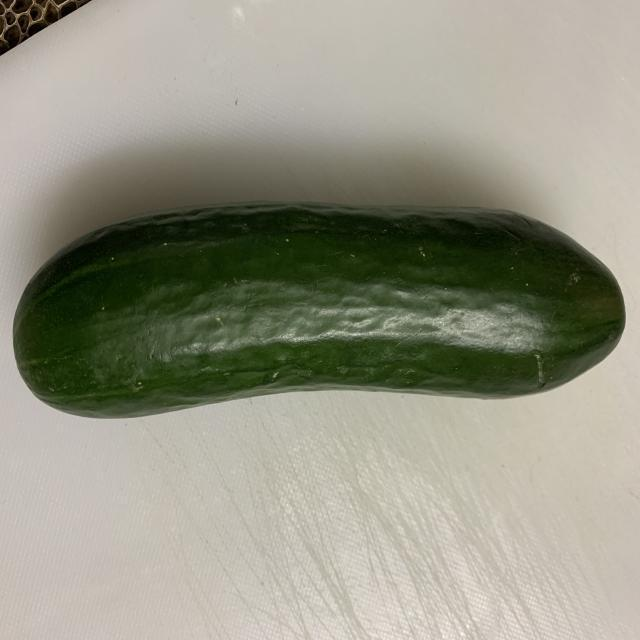Cucumber: (10, 190, 625, 418)
